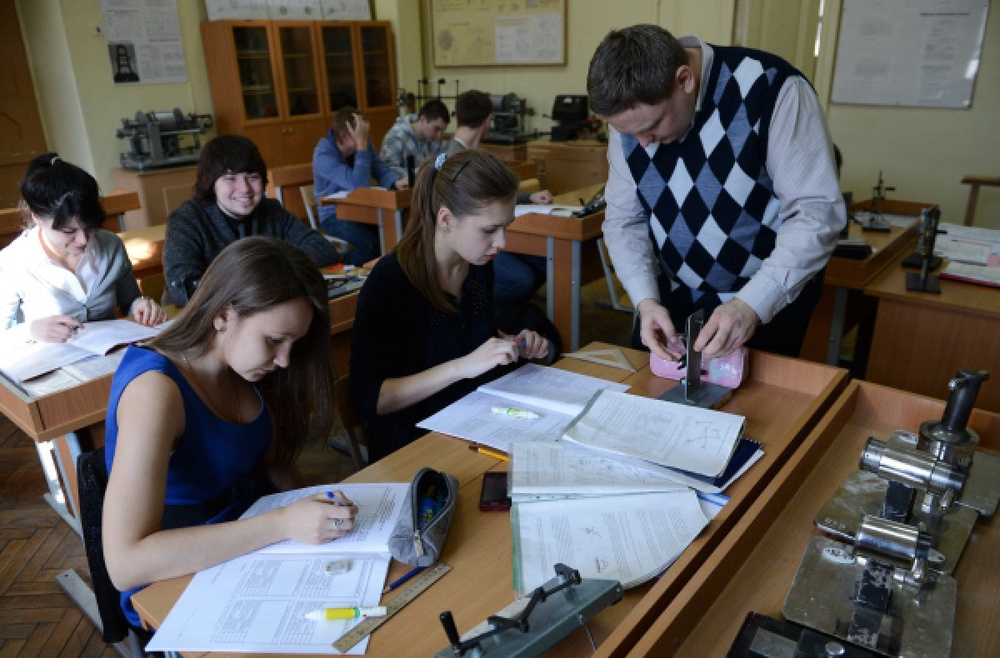students: (101, 235, 359, 630), (588, 23, 849, 363), (356, 148, 565, 469), (1, 156, 170, 346), (163, 131, 337, 311), (311, 108, 411, 261), (381, 97, 450, 182), (442, 88, 494, 159)
